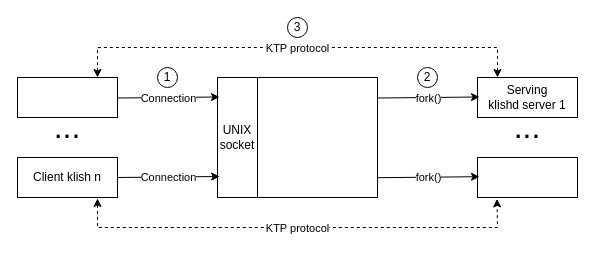
Some shapes in this 595 by 254 pixel diagram are drawn without their labels. Here are the shapes that lost their labels. From the top down, the box of each, then its label:
(16, 76, 118, 118): Client klish 1
(216, 76, 378, 198): Listening klishd server
(476, 156, 578, 198): Serving klishd server n
